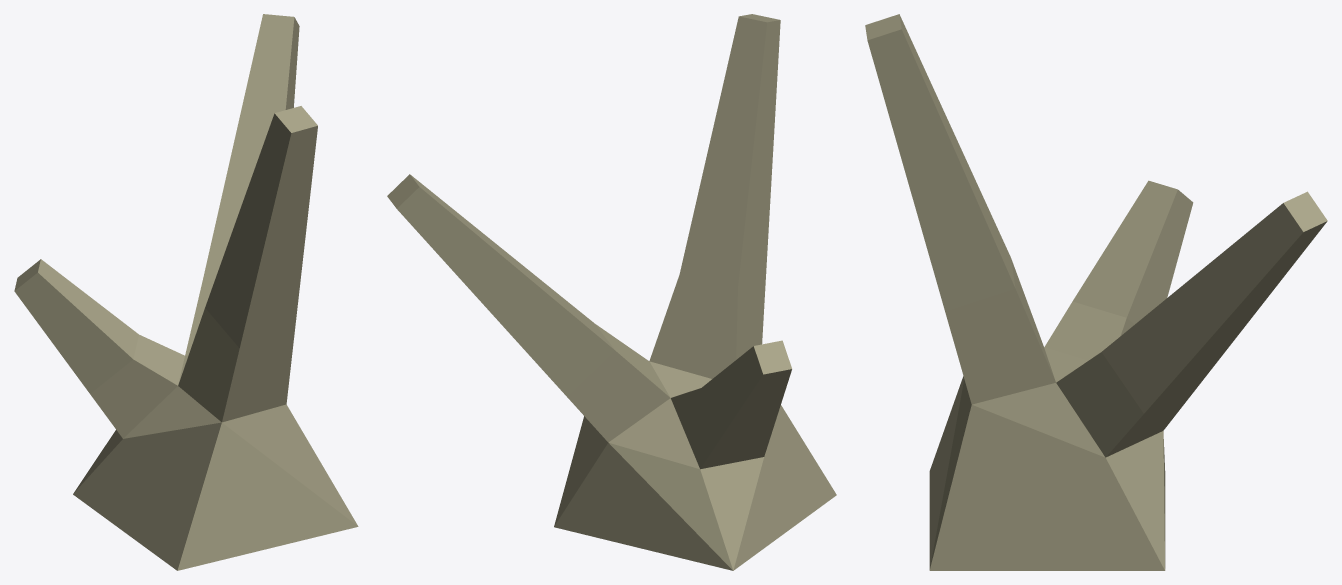
Rendered from Hierro Recurso Unitario.glb.
3 views of the same model, side by side, from view 1: azimuth 30°, elevation 25°; view 2: azimuth 150°, elevation 25°; view 3: azimuth 270°, elevation 25° (orthographic). The views are drawn at different scales.
Visible parts, largest first — view 1: Plane.001; view 2: Plane.001; view 3: Plane.001.
Part boxes in pixels (x1,y1,x2,y2): Plane.001: (14,14,358,570); Plane.001: (387,14,836,570); Plane.001: (865,14,1327,570).
Bounding box in the file's own units: 0.958 × 1.18 × 0.9818.
